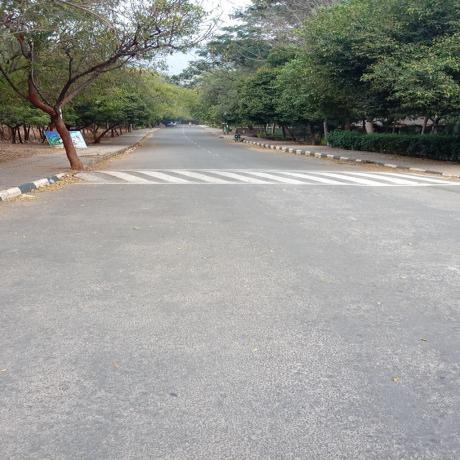Speed Bump: (59, 169, 458, 186)
